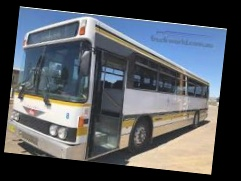bus: (8, 10, 215, 170)
